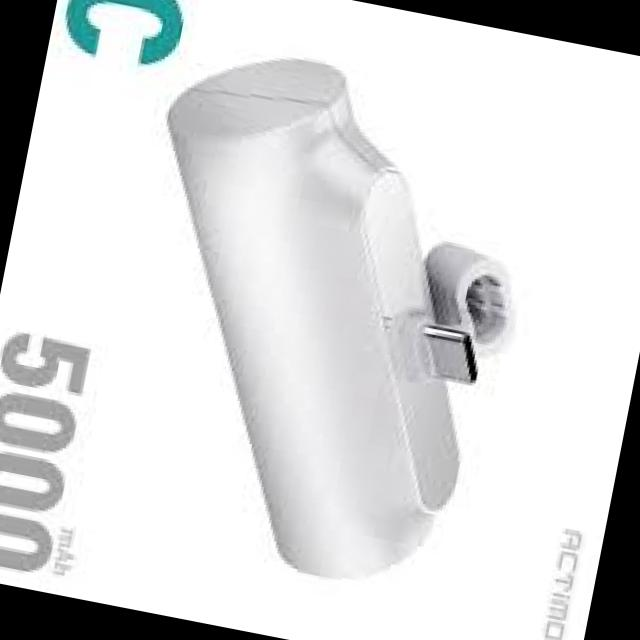power_bank: (84, 25, 565, 610)
